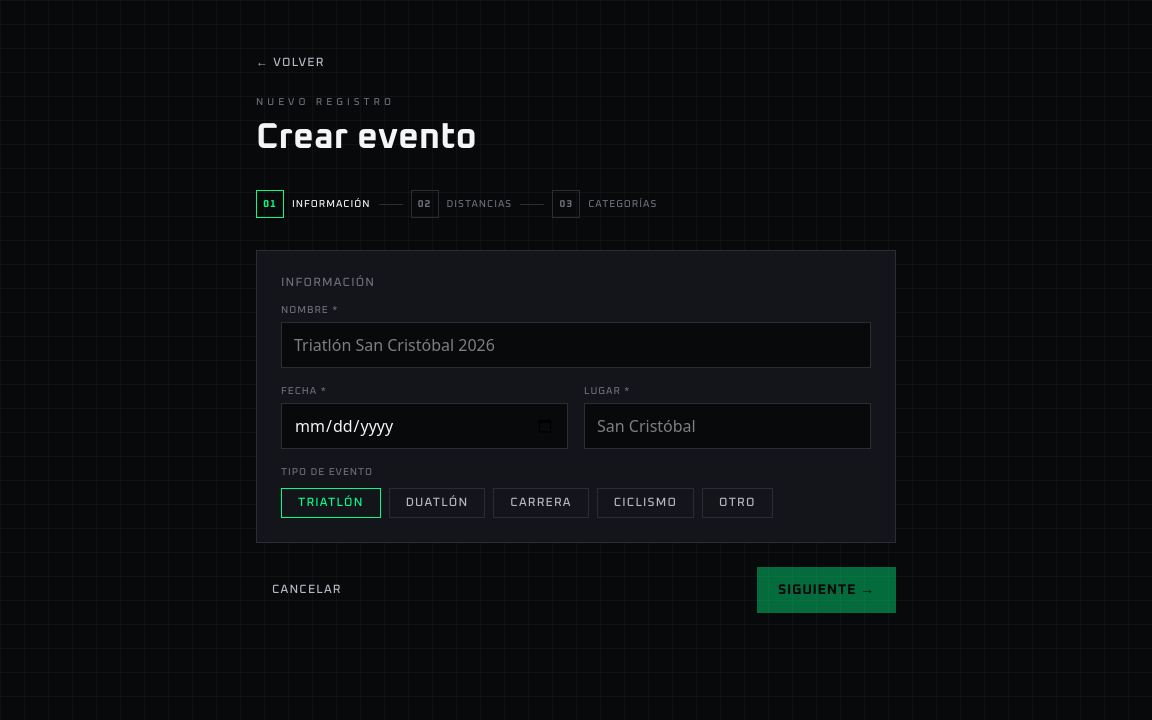
NuevoEvento — distancias › Agregar distancia adds an empty, labelled distance
The image size is (1152, 720).
In the field with placeholder "Triatlón San Cristóbal 2026": (576, 345) [281,322,871,368], type "Tri Test"
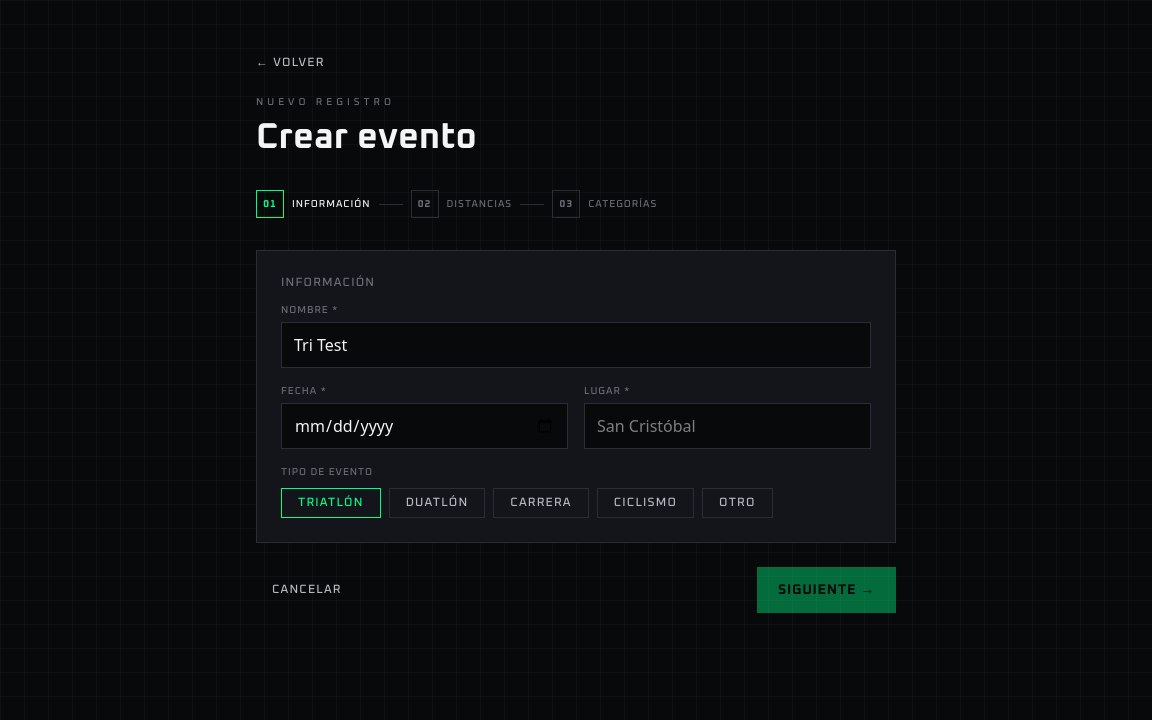
In the date field: (424, 426) [281,403,568,449], type "2026-10-04"
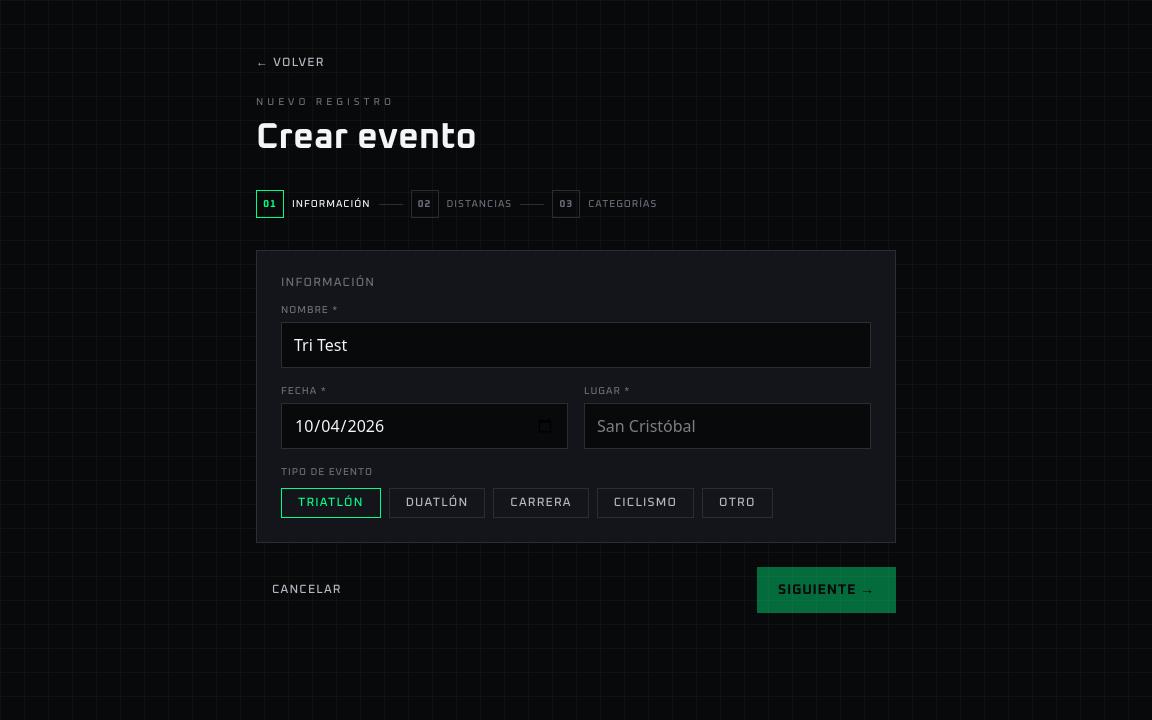
In the field with placeholder "San Cristóbal": (728, 426) [584,403,871,449], type "CDMX"
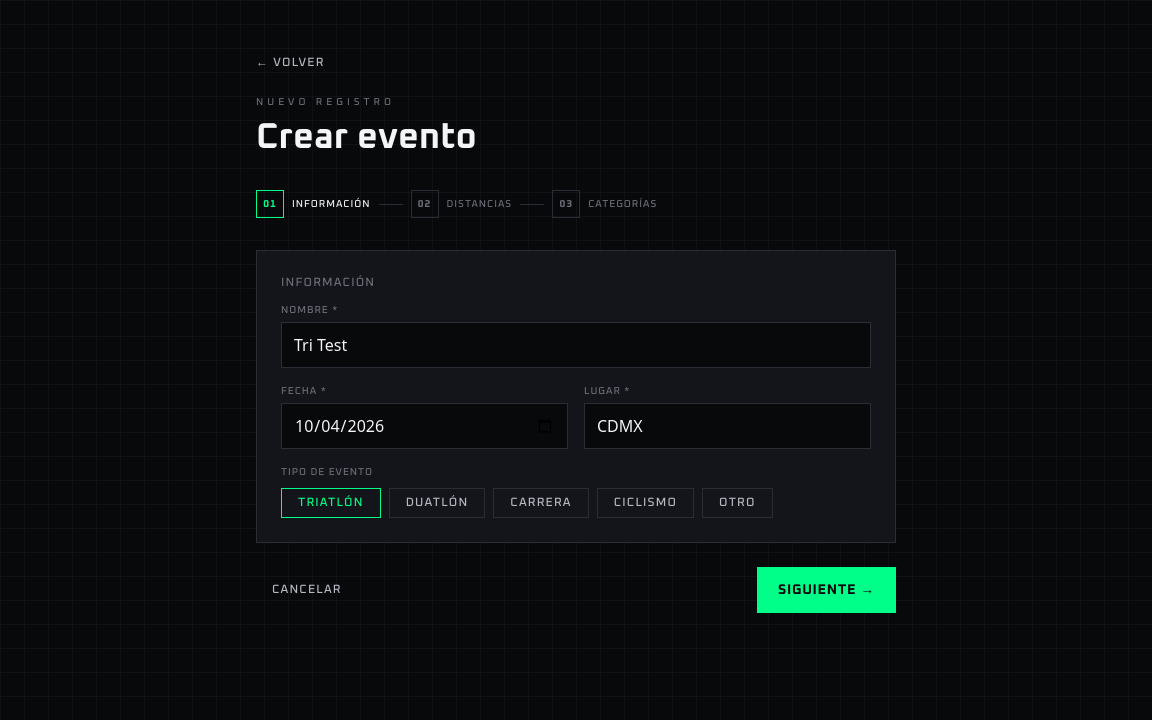
Click the button "Siguiente →": (826, 590) [757,567,896,613]
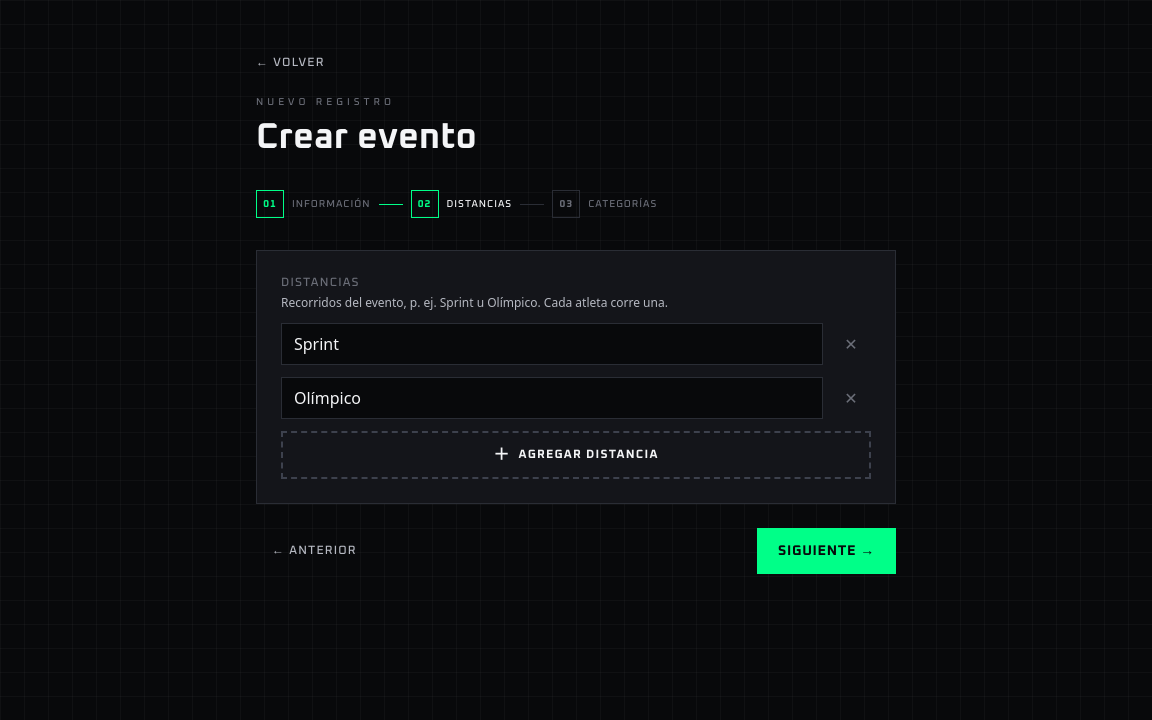
Click the button "＋ Agregar distancia": (576, 455) [281,431,871,479]
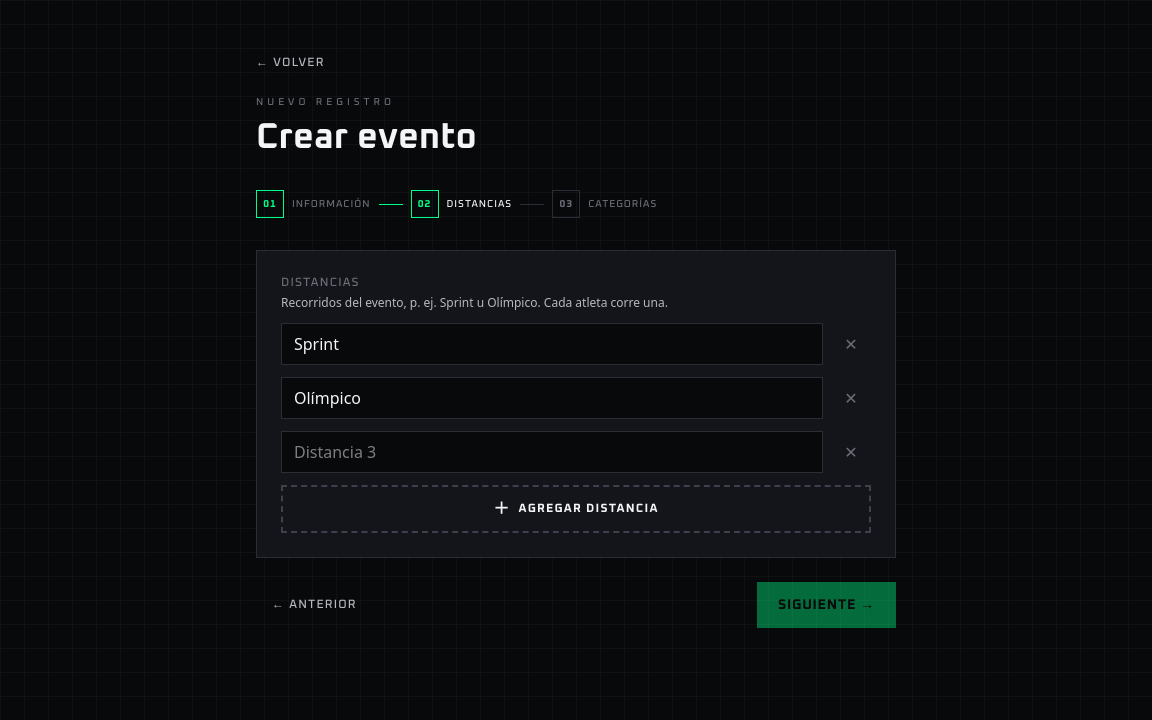
Expected: the field labelled "Distancia 3" is empty, [281,431,823,473]
Expected: the button "Siguiente →" is disabled, [757,582,896,628]
